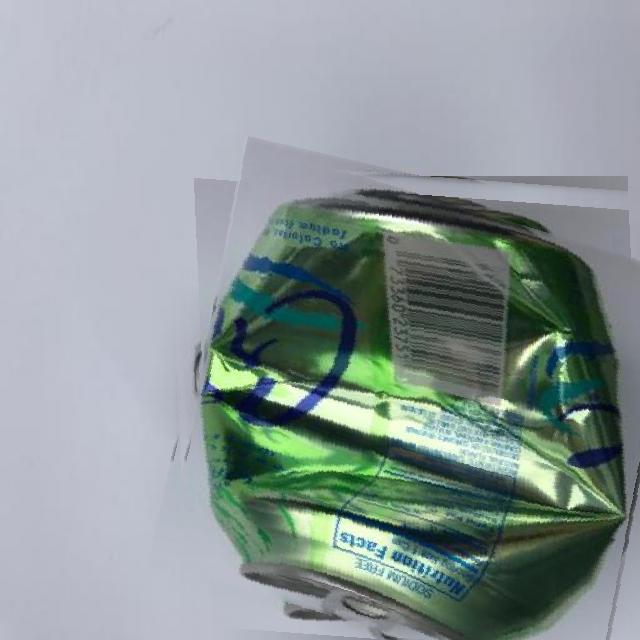recyclable: (167, 157, 640, 640)
